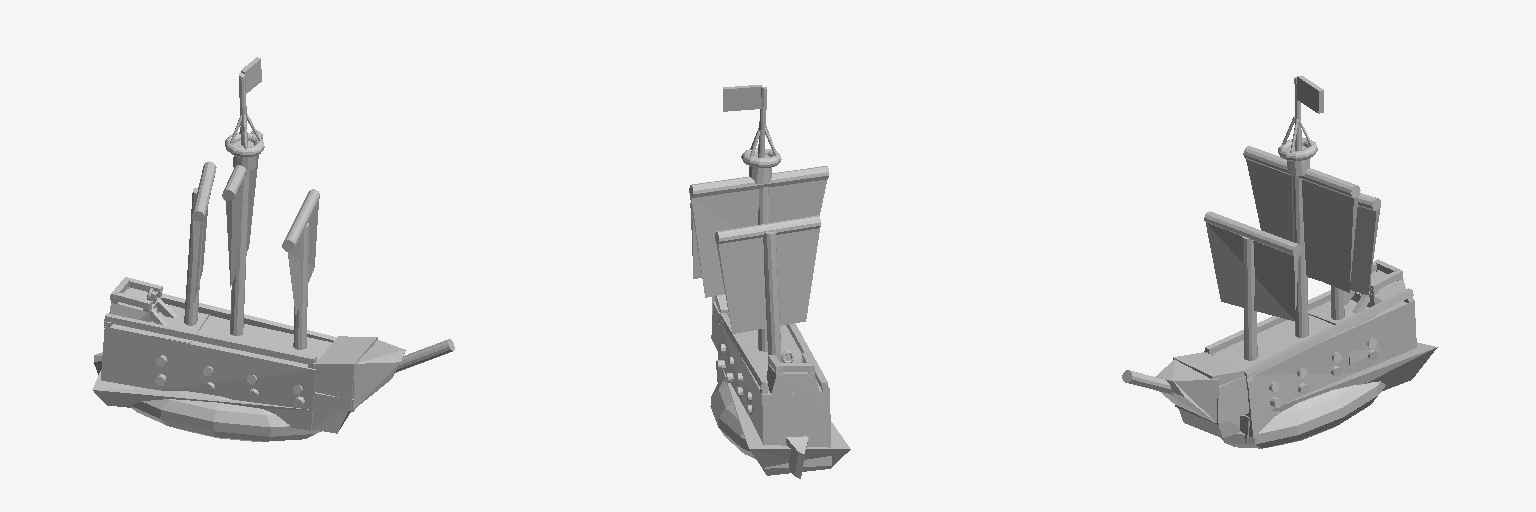
File: Ship.obj
The picture shows the model from 3 angles: view 1: azimuth 30°, elevation 25°; view 2: azimuth 150°, elevation 25°; view 3: azimuth 270°, elevation 25°; orthographic projection.
Parts seen in each view (by area): view 1: group[number redacted]; view 2: group[number redacted]; view 3: group[number redacted].
Part boxes in pixels (left/top/right/bottom): group[number redacted]: left=92, top=57, right=454, bottom=441; group[number redacted]: left=689, top=85, right=850, bottom=478; group[number redacted]: left=1122, top=76, right=1437, bottom=448.
Bounding box in the file's own units: 0.8401 × 1.16 × 0.9306.